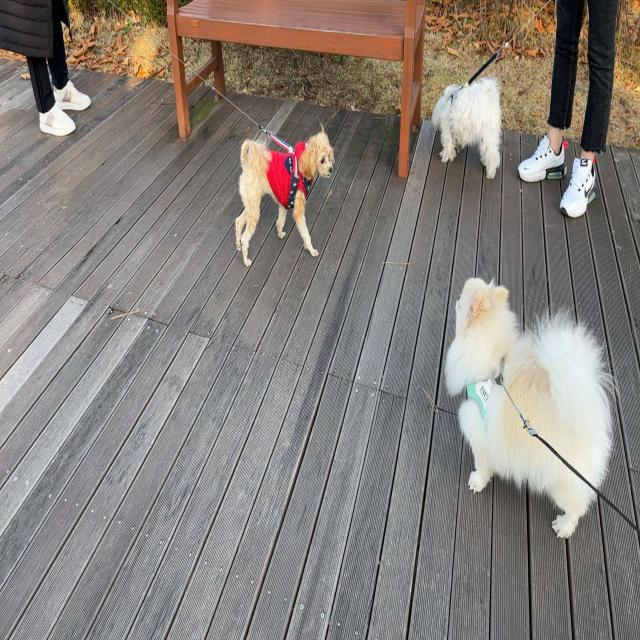Dog: (446, 274, 613, 540), (235, 127, 334, 268)
Leashed_Dog: (431, 0, 570, 180)
